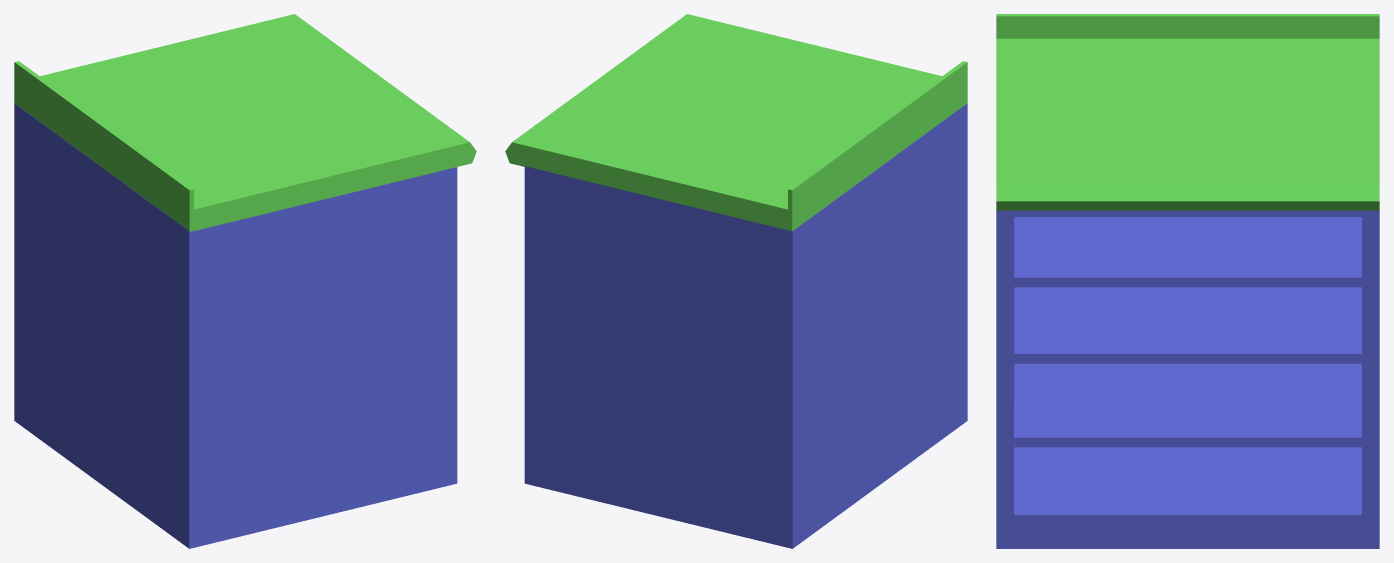
File: kitchencounter2.fbx
The picture shows the model from 3 angles, left to right: view 1: azimuth 30°, elevation 25°; view 2: azimuth 150°, elevation 25°; view 3: azimuth 270°, elevation 25°; orthographic projection. The views are drawn at different scales.
Parts seen in each view (by area): view 1: cupboard, countertop, margin; view 2: cupboard, countertop, margin; view 3: shelves, countertop, cupboard, margin.
Part boxes in pixels (x1,y1,x2,y2): cupboard: (14,103,457,548); countertop: (40,14,476,230); margin: (14,61,193,231); cupboard: (524,103,967,548); countertop: (505,14,941,230); margin: (788,61,967,231); shelves: (1014,217,1361,447); countertop: (996,38,1379,210); cupboard: (996,210,1379,548); margin: (996,14,1379,38).
Bounding box in the file's own units: 189 × 226 × 200.
